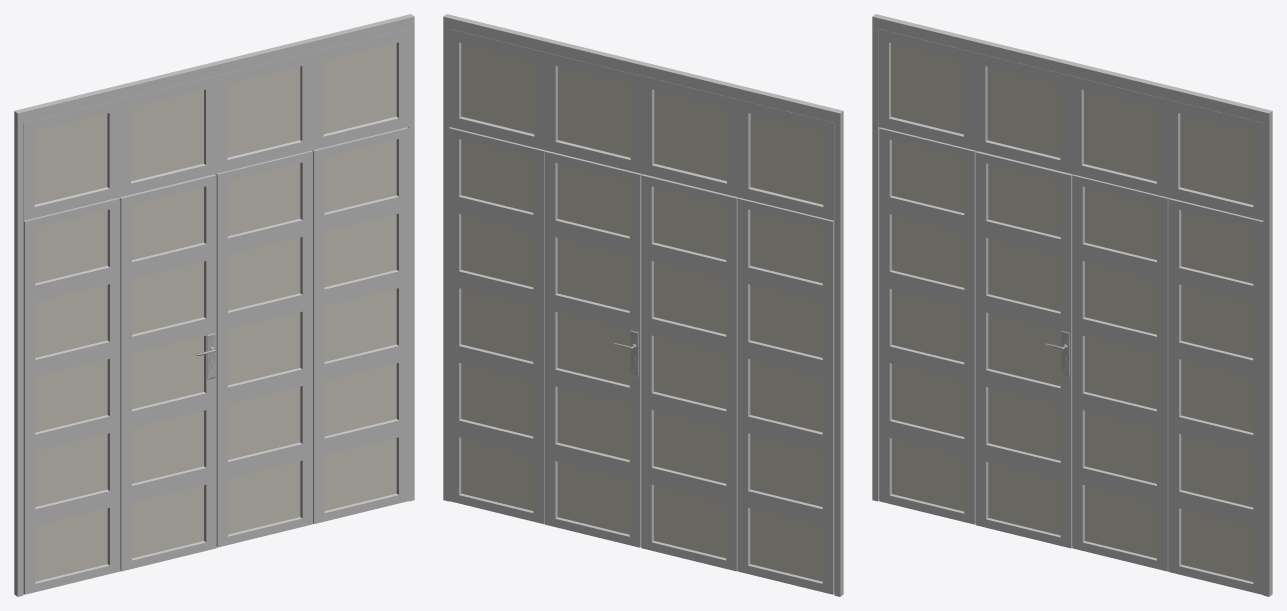
File: FrontDoor.fbx
3 views of the same model, side by side, from view 1: azimuth 30°, elevation 25°; view 2: azimuth 150°, elevation 25°; view 3: azimuth 330°, elevation 25° (orthographic).
Visible parts, largest first — view 1: Door_Part1, Door_Part2, Door_Part3; view 2: Door_Part1, Door_Part3, Door_Part2; view 3: Door_Part1, Door_Part2, Door_Part3.
Boxes of the visible parts, x1,y1,x2,y2 form: Door_Part1: [14, 14, 414, 596]; Door_Part2: [119, 174, 216, 571]; Door_Part3: [215, 150, 312, 547]; Door_Part1: [443, 14, 843, 596]; Door_Part3: [544, 150, 642, 547]; Door_Part2: [641, 174, 738, 571]; Door_Part1: [872, 14, 1272, 596]; Door_Part2: [975, 151, 1072, 548]; Door_Part3: [1072, 174, 1169, 571].
Bounding box in the file's own units: 283 × 329 × 13.64.
